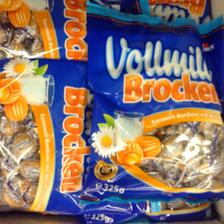Suessigkeit: (88, 20, 224, 196), (0, 58, 88, 210)
